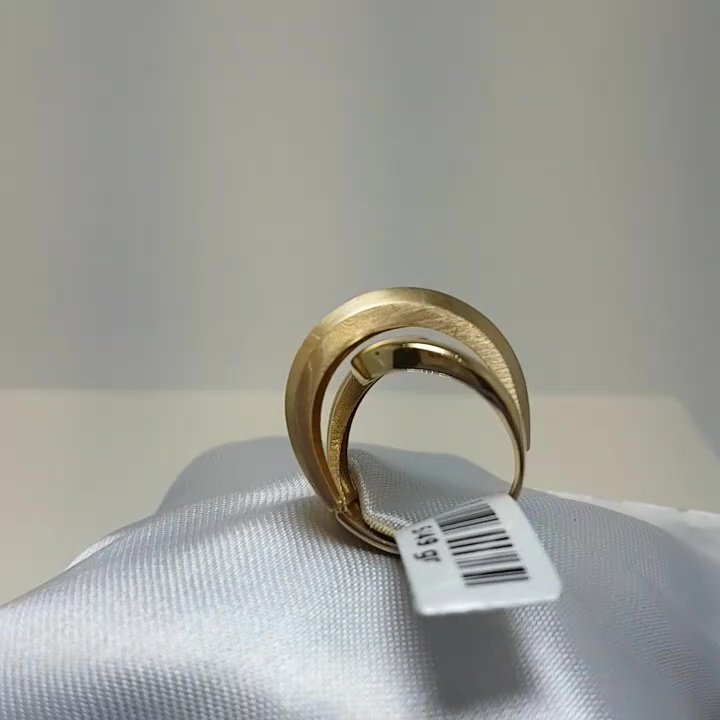Ring 3: (215, 268, 551, 559)
